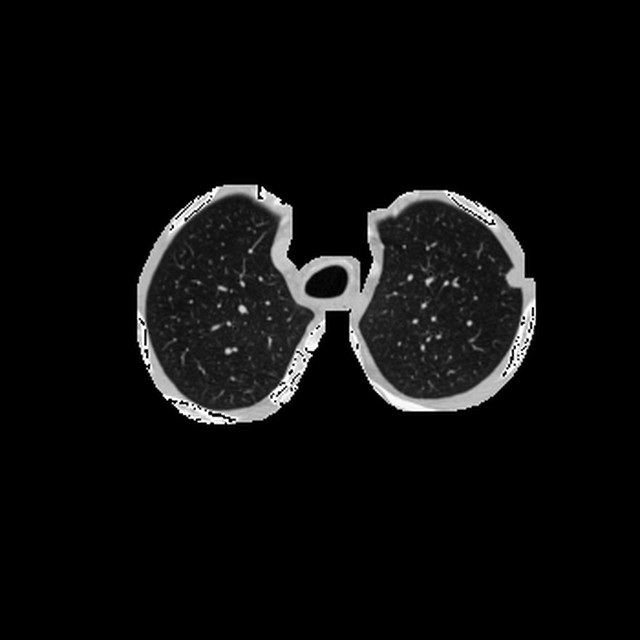PN: (507, 271, 521, 285)
